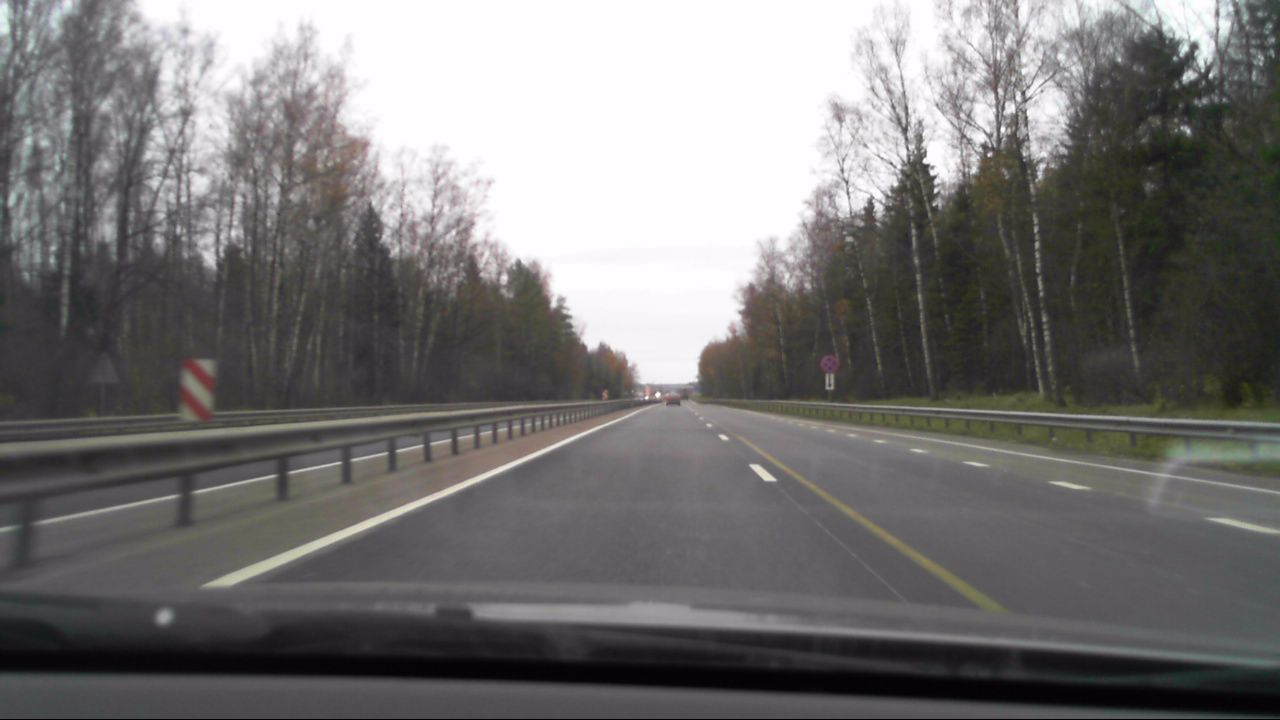No Parking: (820, 355, 839, 372)
